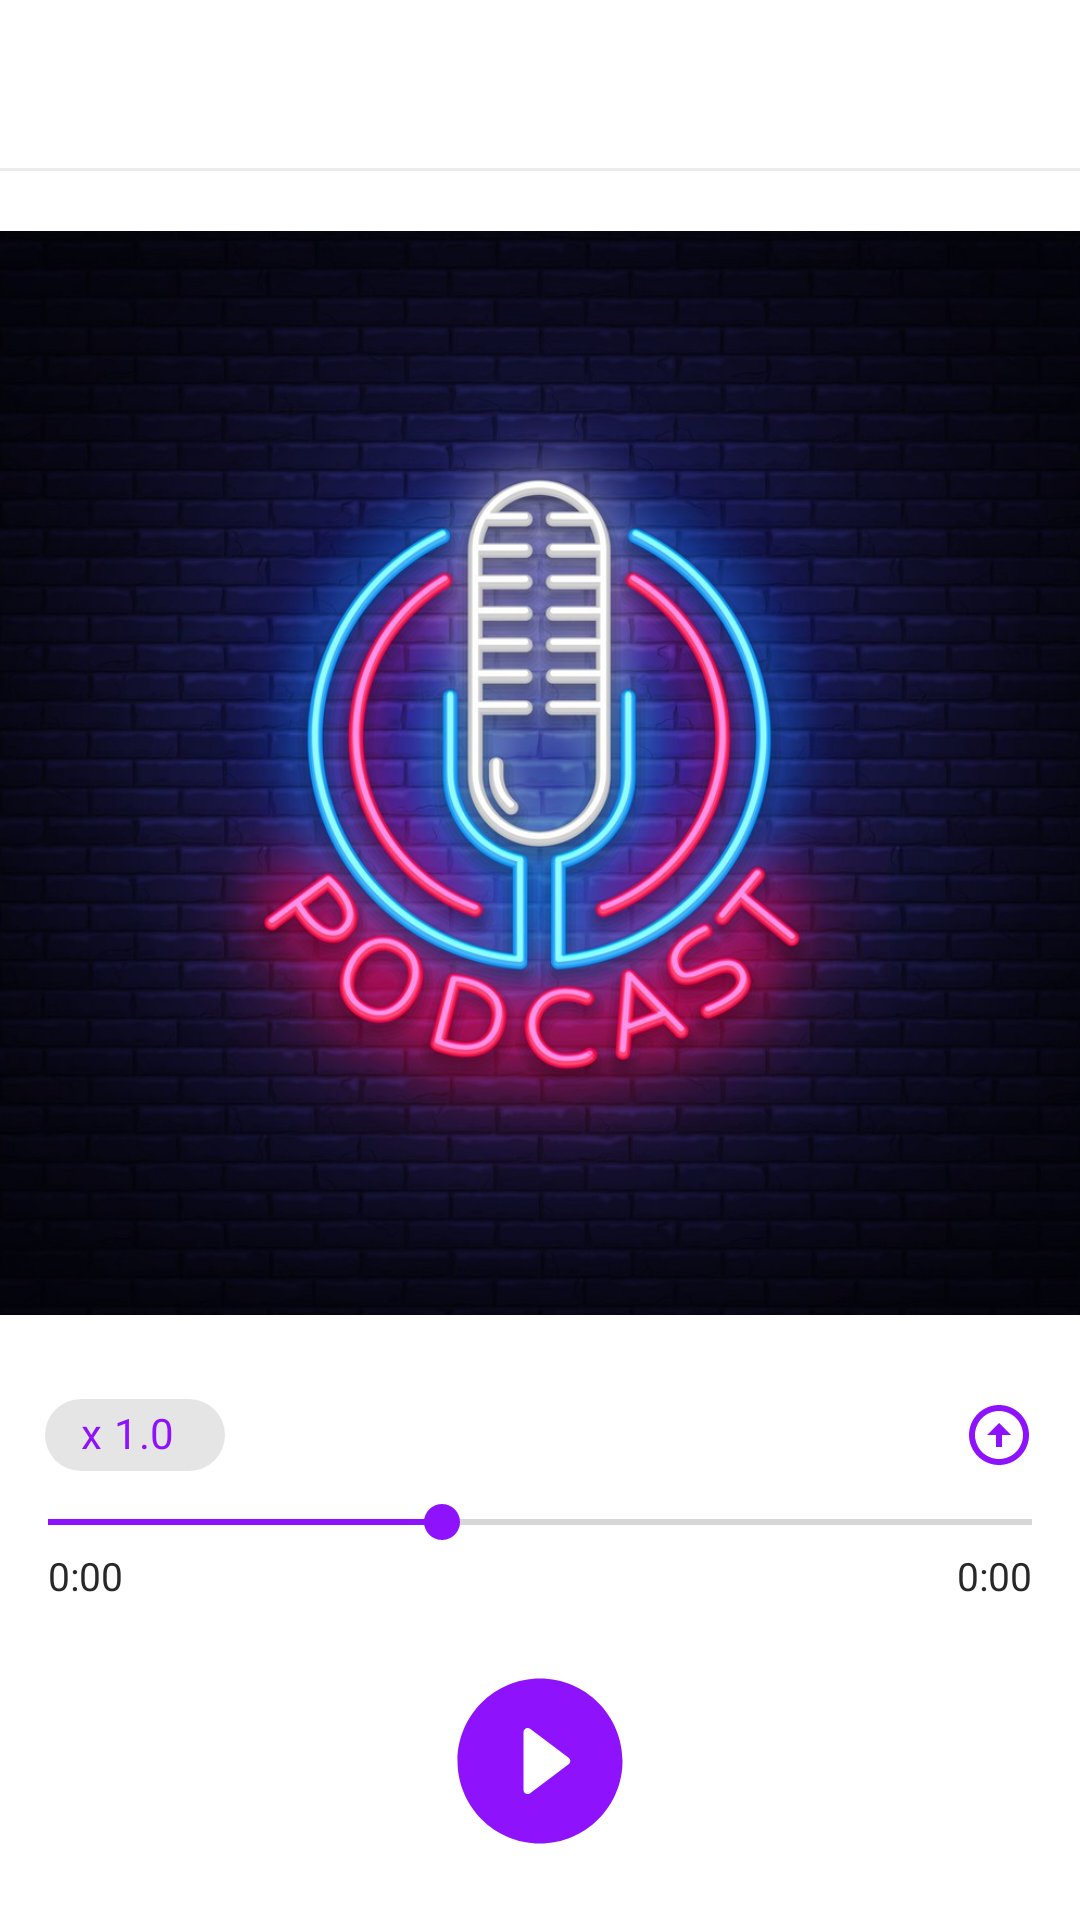

Point at icon controls on the screen. Image size 1080×1920, points as (x,y).
play circle: (540,1761)
upload: (999,1435)
